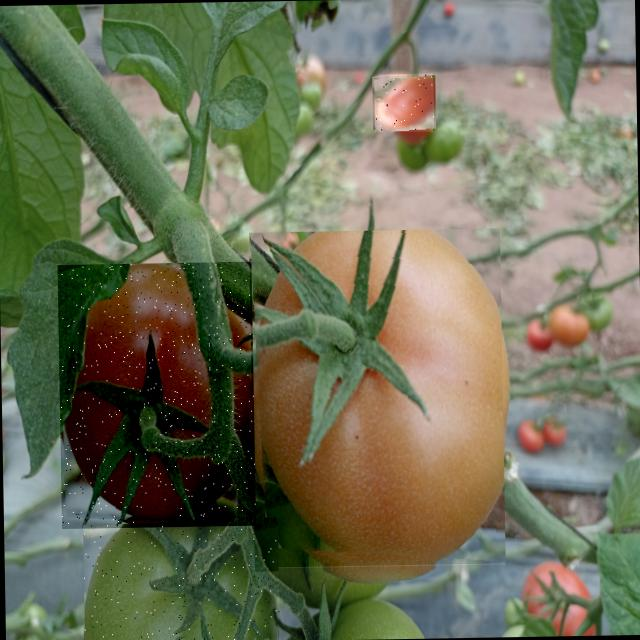Ripe Tomato: (248, 228, 506, 570), (57, 262, 256, 528), (374, 73, 434, 132)
Unripe Tomato: (82, 521, 279, 640)
